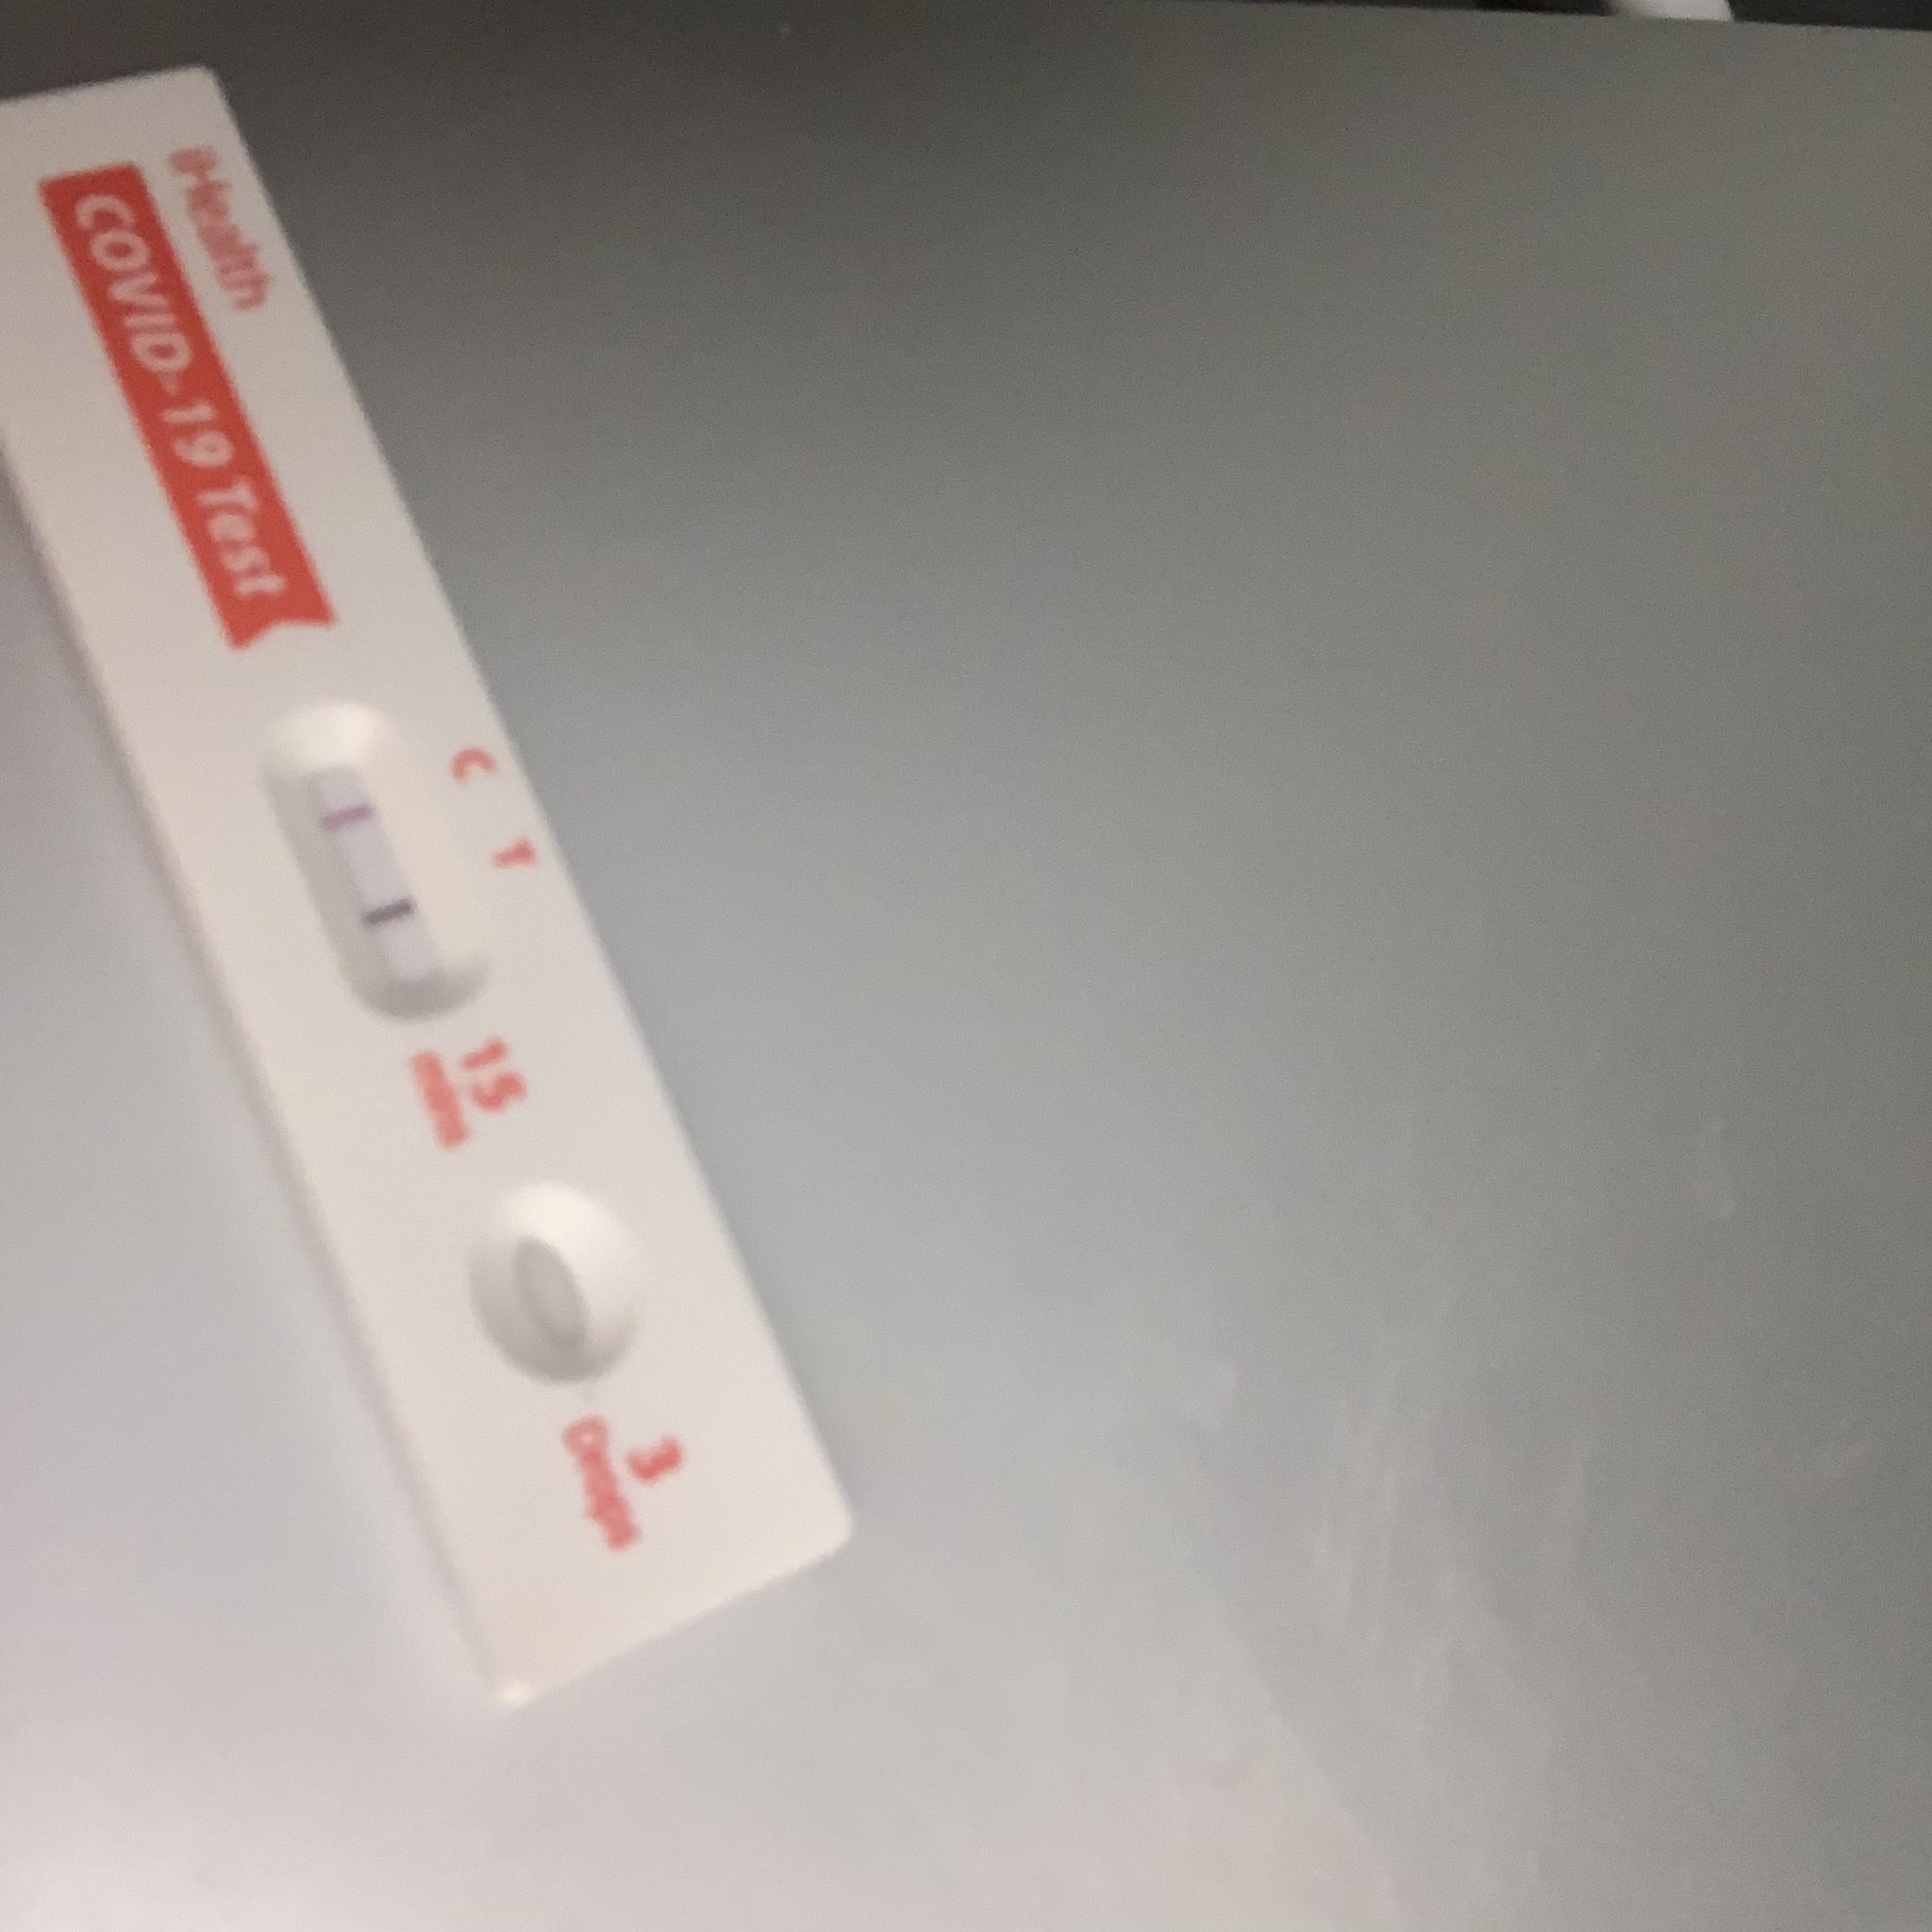positive: (272, 729, 441, 1010)
